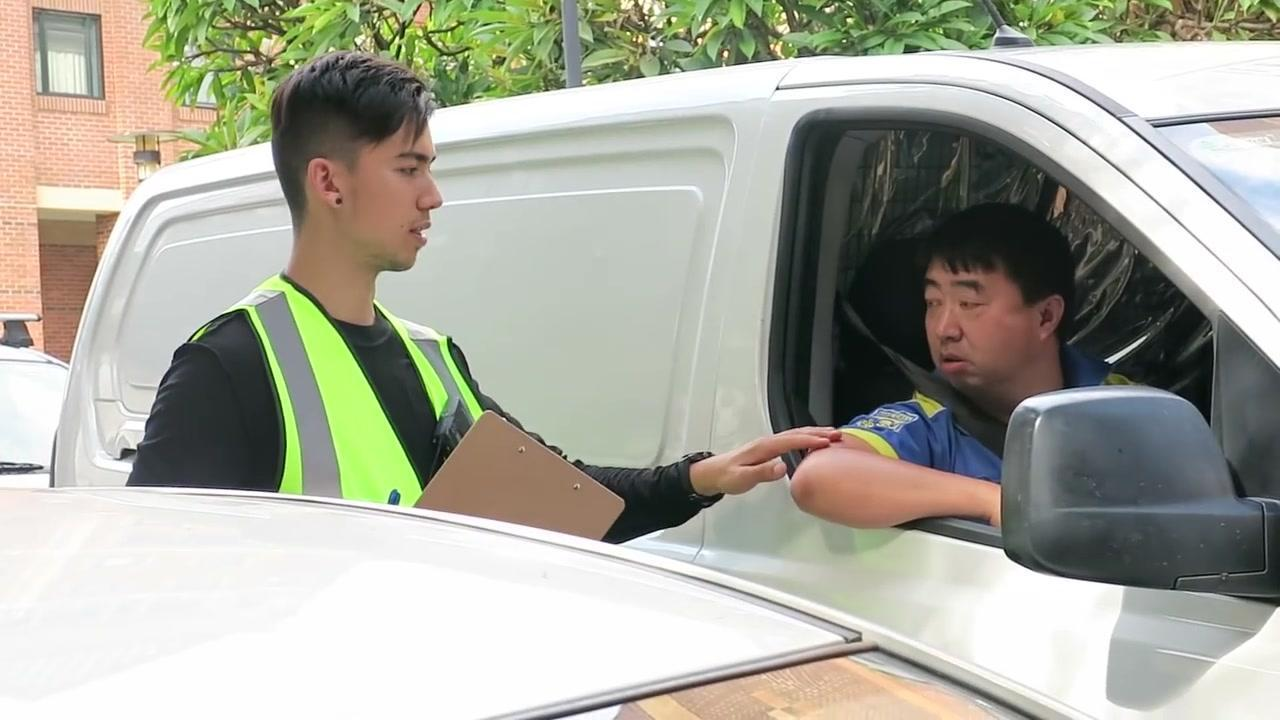vest: (181, 276, 484, 509)
